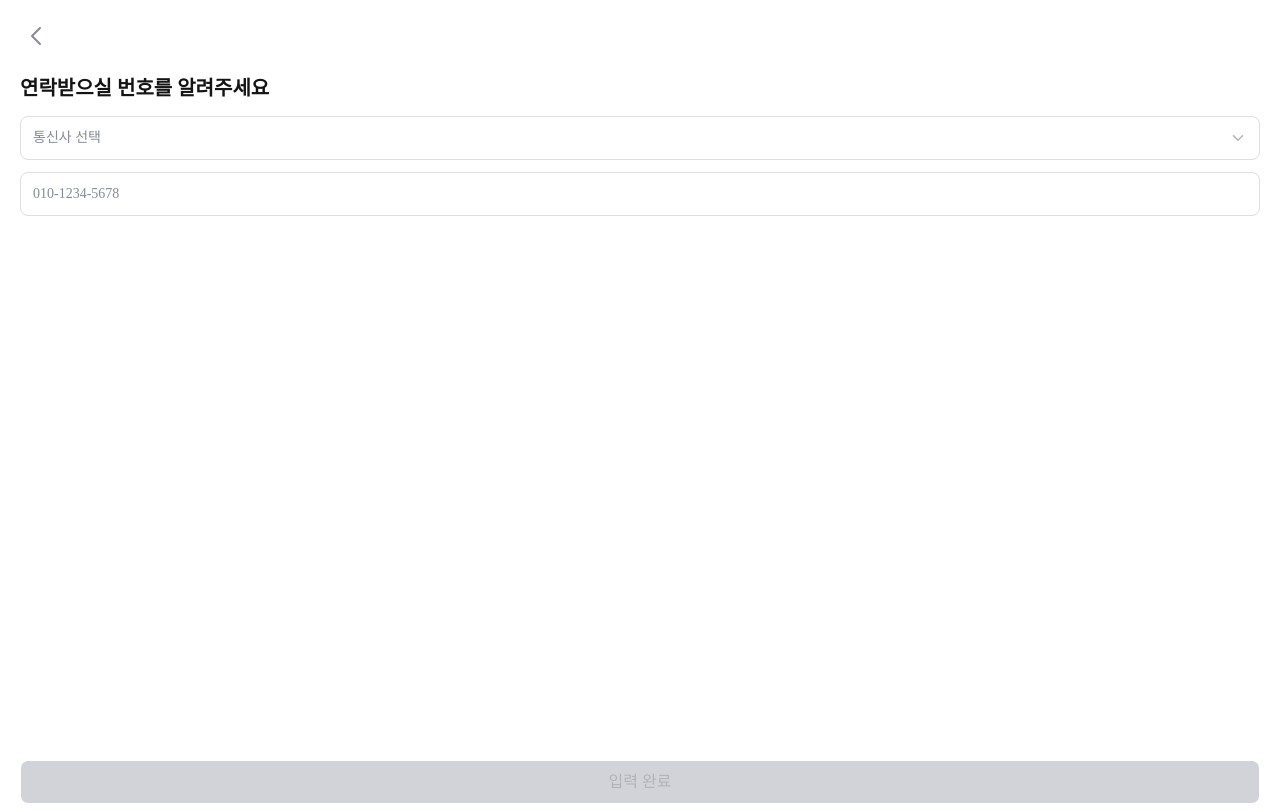
Test: 번호가 휴대폰 번호 모양일 때만 인증 칩을 보인다
Type "010123" into the field named "휴대폰 번호".
click(640, 194); type("010123")  # box x1=20 y1=172 x2=1260 y2=216
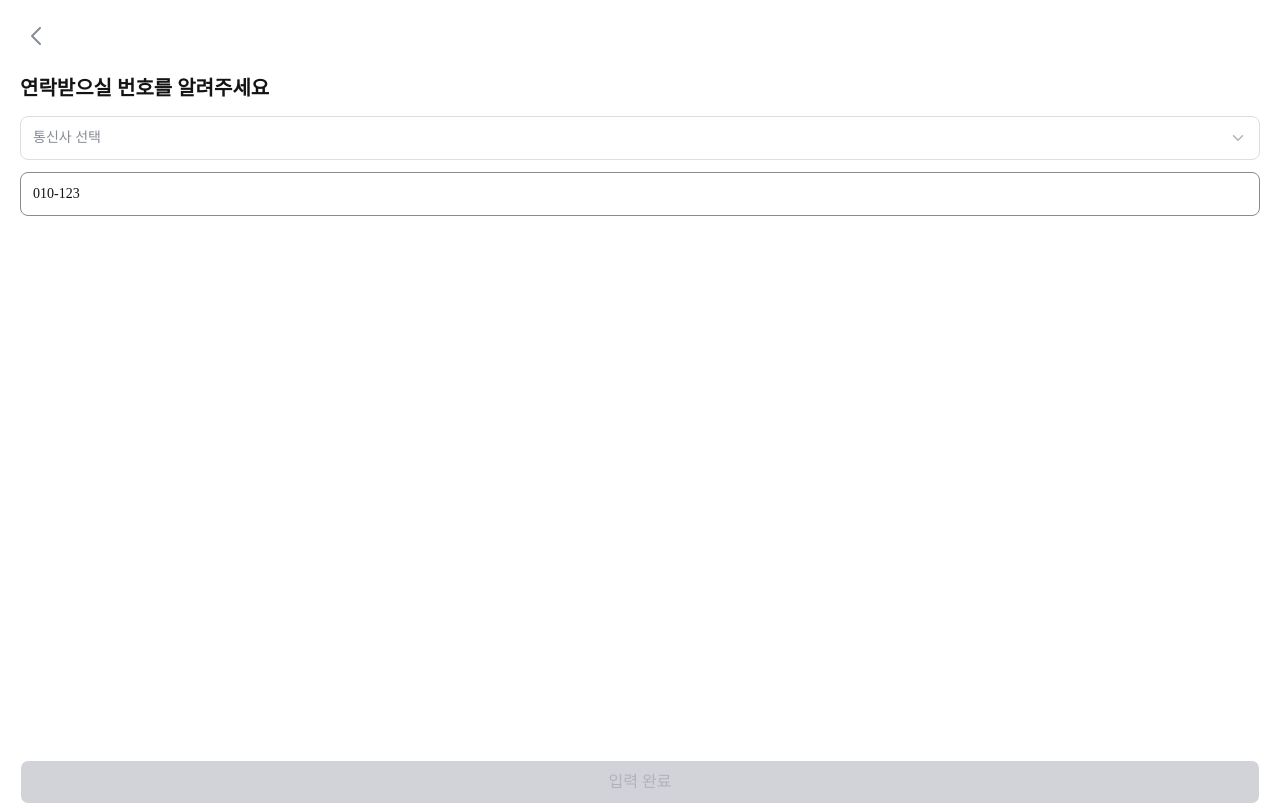
Note: 열 자리지만 서울 지역번호다
Replace the text in the field named "휴대폰 번호" with "0212345678" at (640, 194), box x1=20 y1=172 x2=1260 y2=216
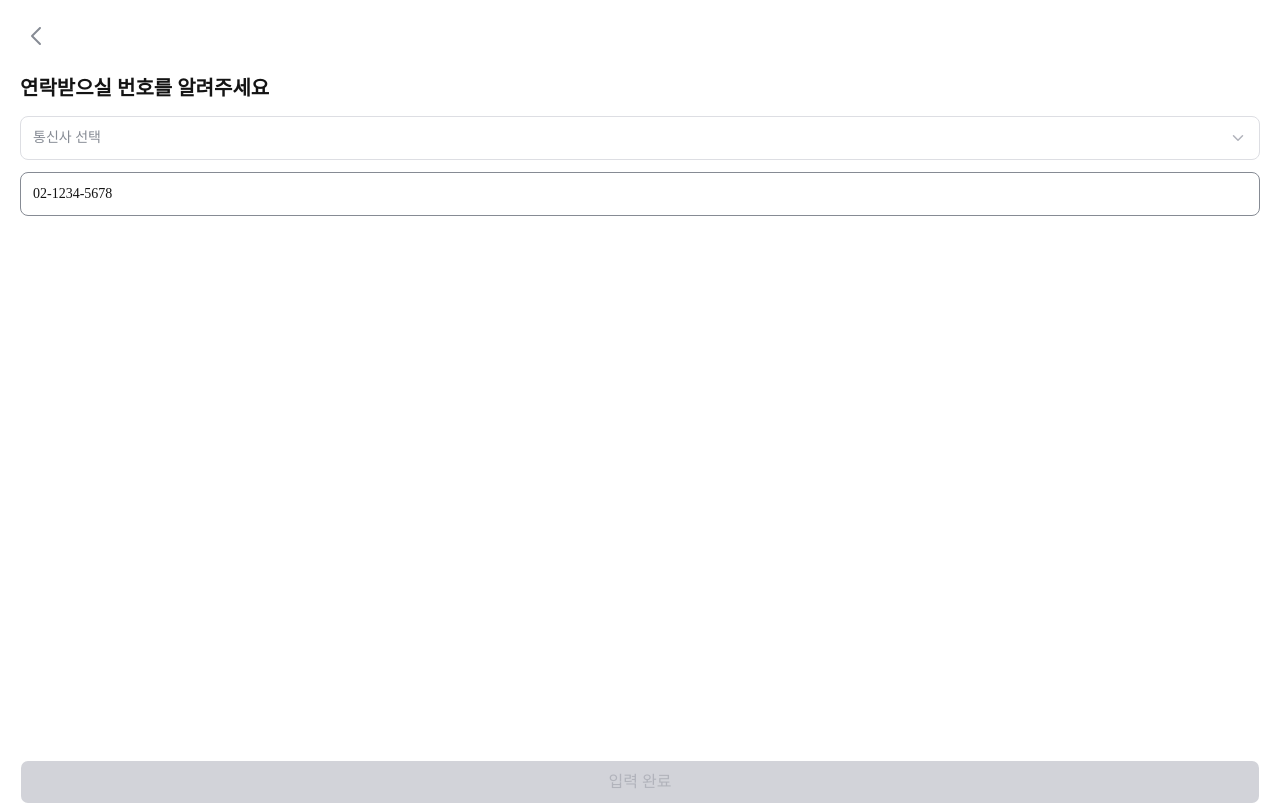
Replace the text in the field named "휴대폰 번호" with "01012345678" at (640, 194), box x1=20 y1=172 x2=1260 y2=216
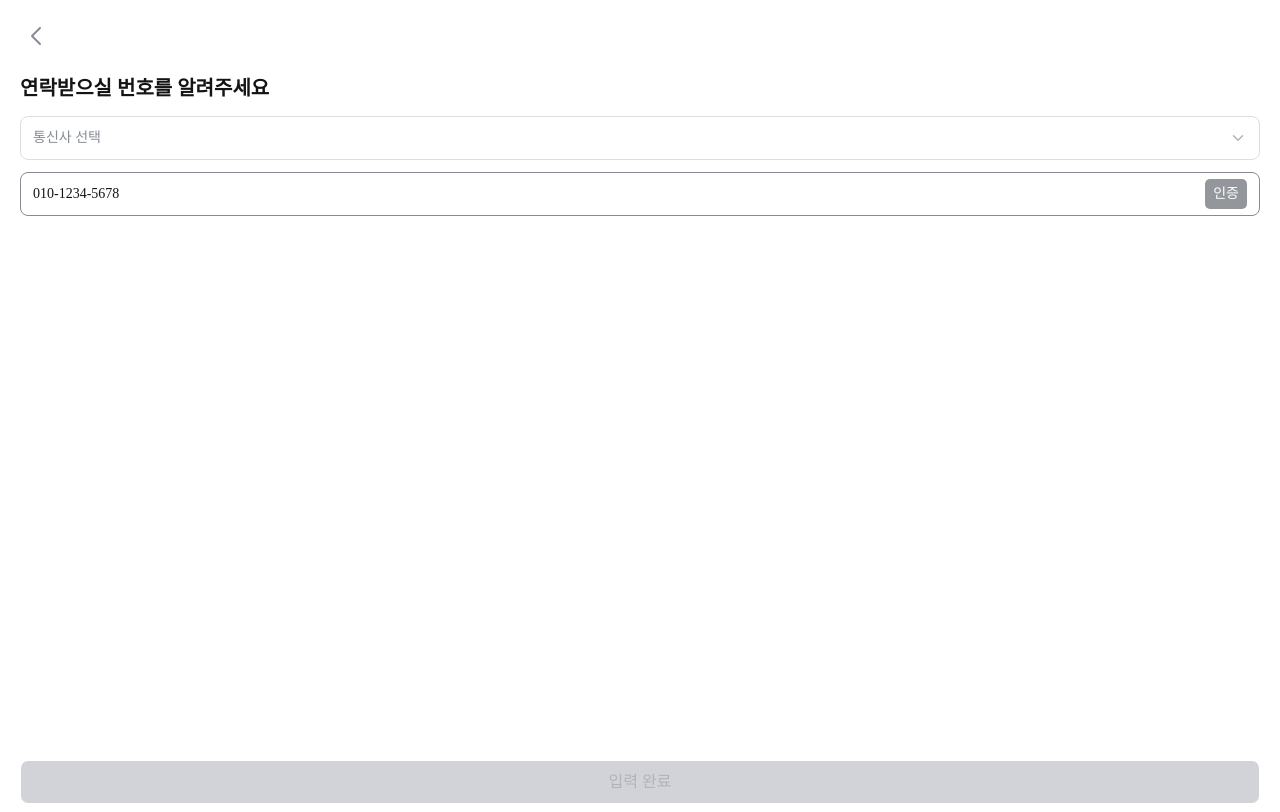
Now the button with aria-label "인증 번호 받기" is shown, box x1=1204 y1=178 x2=1248 y2=210
